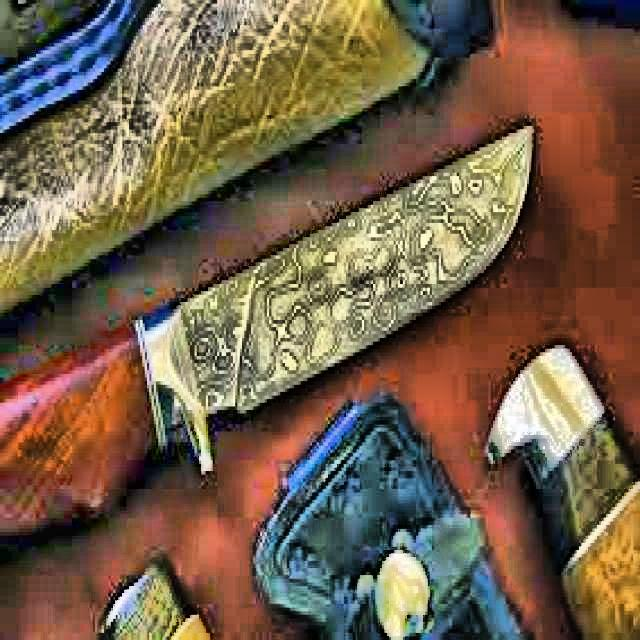knife: (0, 114, 538, 537)
